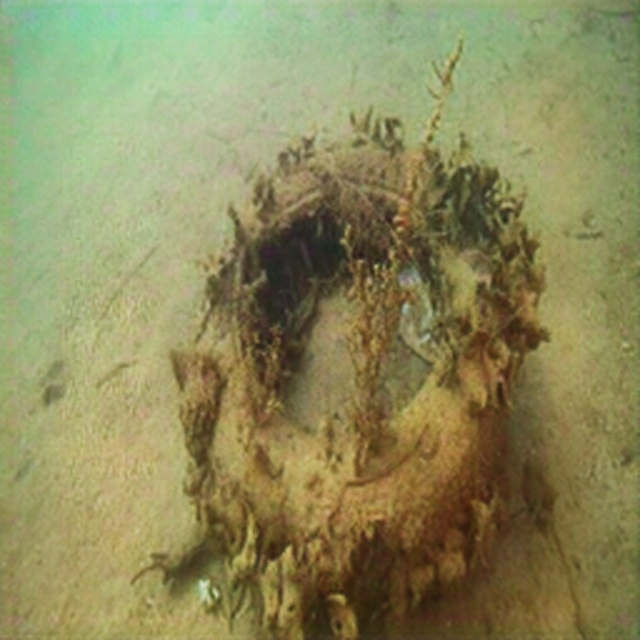mine: (194, 137, 514, 627)
